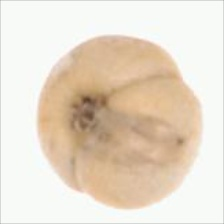L3: (65, 90, 108, 135)
L4: (36, 36, 202, 209)
